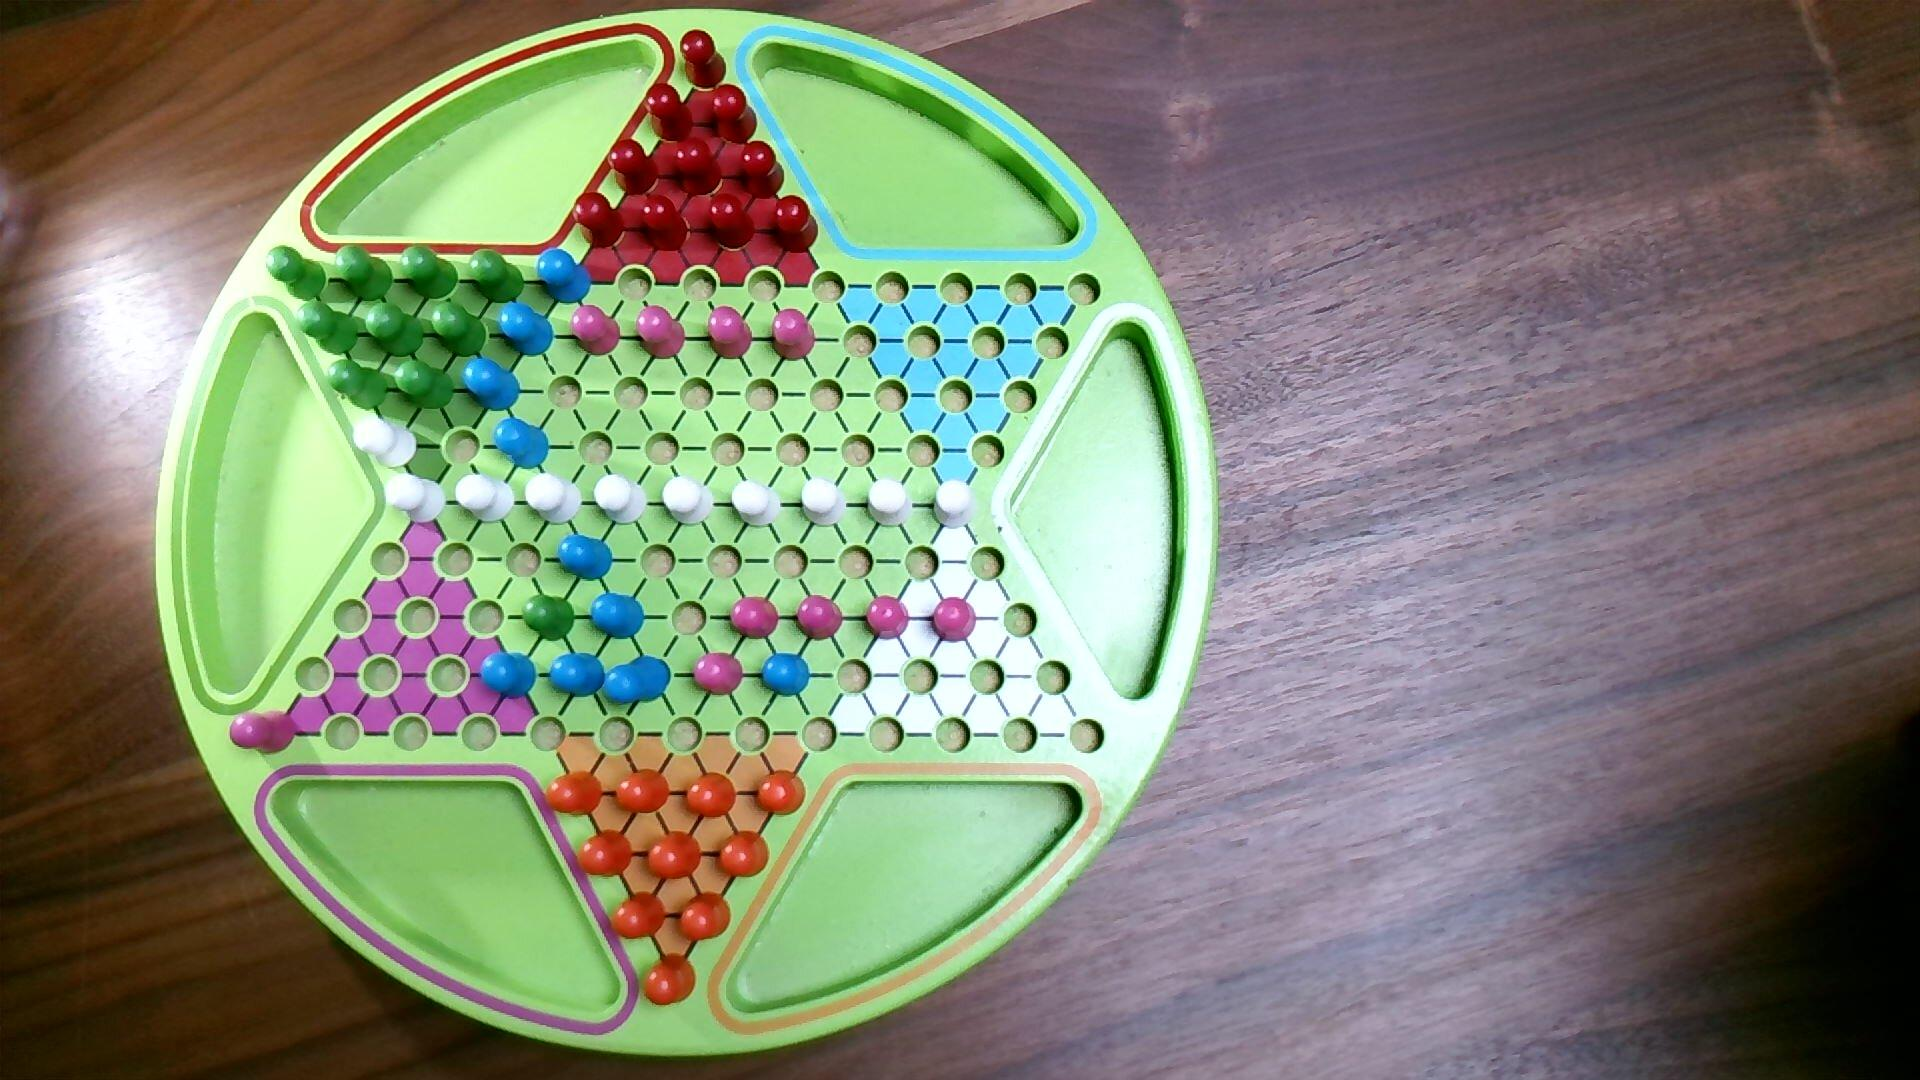B: (603, 655, 673, 707), (462, 357, 524, 414), (535, 247, 593, 306), (498, 301, 556, 359), (495, 417, 553, 472), (479, 649, 539, 702), (549, 651, 608, 699), (591, 593, 647, 642), (558, 535, 615, 583), (761, 651, 812, 699)
G: (295, 297, 363, 357), (264, 244, 328, 303), (334, 243, 394, 305), (365, 301, 427, 360), (400, 243, 462, 302), (393, 357, 458, 411), (430, 301, 489, 359), (468, 249, 526, 305), (327, 357, 386, 407), (522, 593, 578, 644)
O: (641, 952, 698, 1009), (676, 889, 735, 944), (645, 829, 704, 882), (543, 769, 607, 818), (609, 890, 669, 942), (578, 829, 636, 880), (615, 767, 673, 816), (717, 829, 773, 880), (684, 771, 738, 820), (756, 769, 808, 818)
R: (571, 189, 626, 252), (644, 80, 696, 146), (673, 135, 725, 198), (607, 137, 661, 198), (708, 83, 760, 146), (640, 193, 691, 255), (680, 29, 729, 92), (707, 193, 758, 252), (771, 194, 822, 255), (740, 138, 787, 200)
R2: (636, 303, 688, 363), (229, 709, 298, 754), (707, 305, 756, 363), (571, 303, 622, 357), (770, 307, 818, 363), (694, 651, 746, 698), (729, 595, 781, 641), (865, 593, 911, 644), (931, 596, 978, 644), (795, 593, 844, 640)
W: (353, 415, 419, 469), (385, 473, 448, 527), (455, 472, 517, 526), (525, 473, 584, 527), (593, 473, 650, 527), (662, 475, 716, 527), (731, 477, 783, 530), (866, 477, 916, 530), (800, 477, 849, 529), (934, 477, 976, 530)
